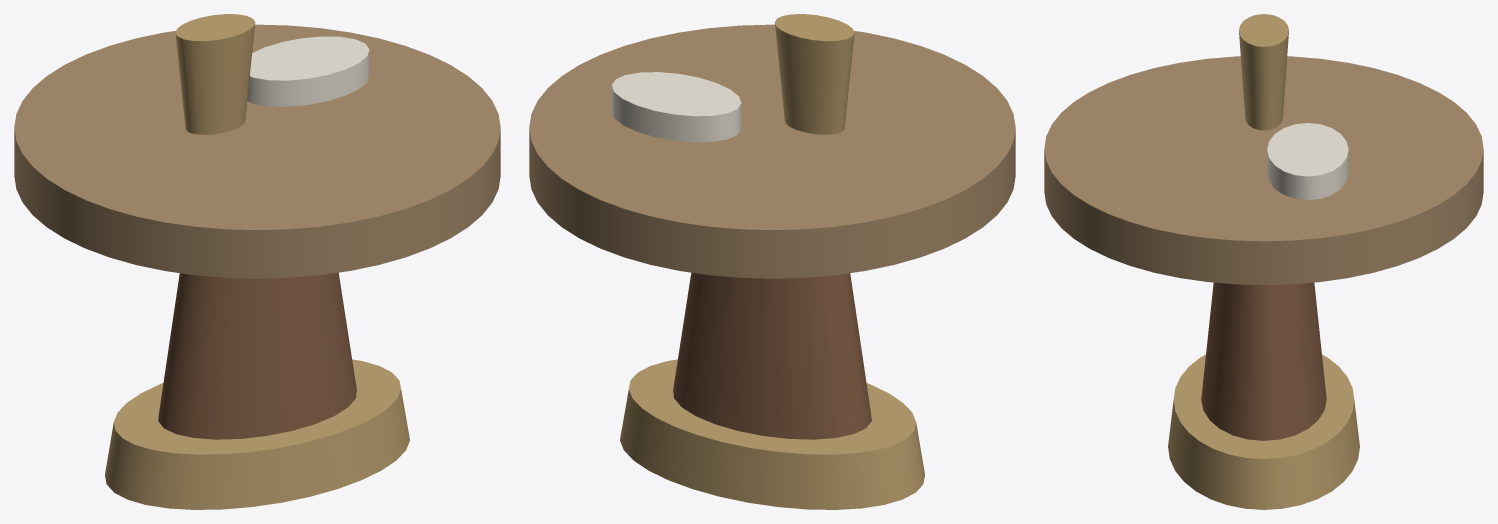
The model's file is table-21-3.glb.
The picture shows the model from 3 angles, left to right: view 1: azimuth 30°, elevation 25°; view 2: azimuth 150°, elevation 25°; view 3: azimuth 270°, elevation 25°; orthographic projection. The views are drawn at different scales.
Parts seen in each view (by area): view 1: part (×4); view 2: part (×4); view 3: part (×4).
Boxes of the visible parts, x1,y1,x2,y2 form: part (×4): [14, 14, 500, 509]; part (×4): [529, 14, 1015, 509]; part (×4): [1044, 14, 1483, 509].
Bounding box in the file's own units: 1 × 1 × 1.
